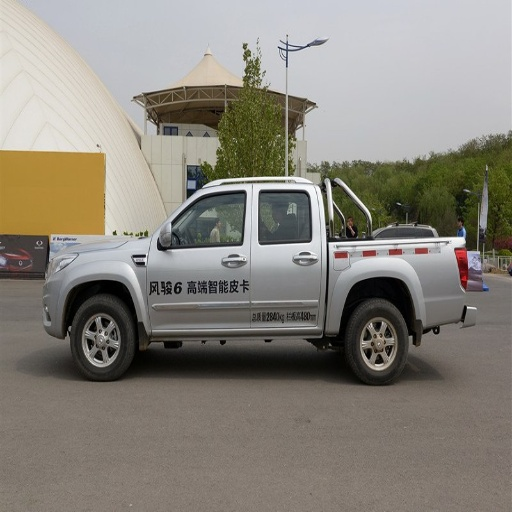back_left_door: (253, 185, 322, 321)
trunk: (322, 239, 467, 332), (44, 250, 82, 326)
